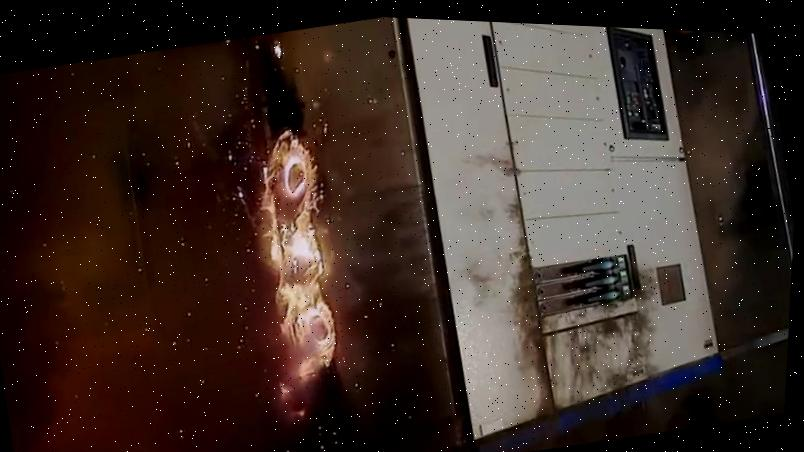fire: (189, 45, 357, 437)
